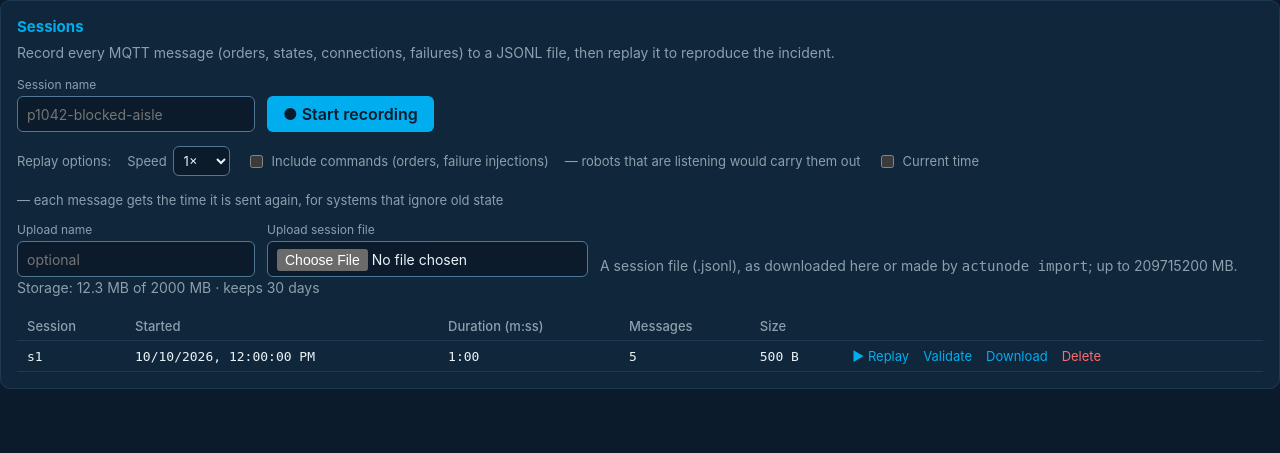
Test: sessions: validate, upload, storage (D-40, D-41) › shows the error when validation is refused
The width and height of the screenshot is (1280, 453).
Step 1. Click the button with aria-label "Validate session s1" → point(948, 356), box 923,348 -> 972,364
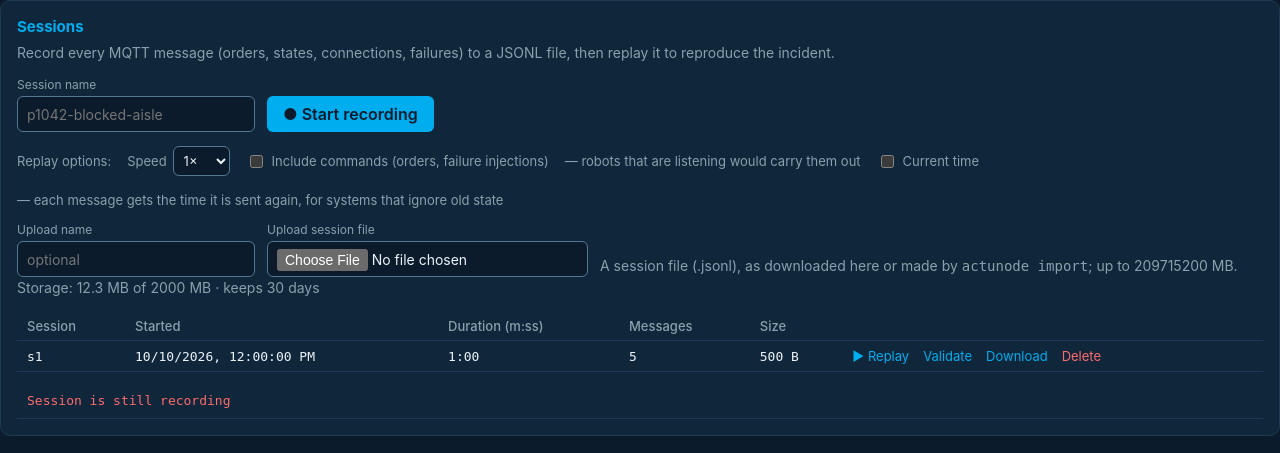
expect the text "Session is still recording" is shown: met, box 27,393 -> 230,408
